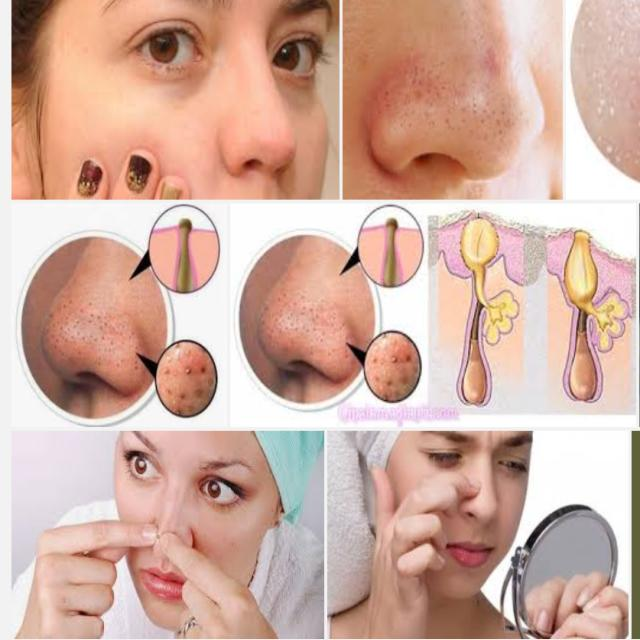Acne: (366, 56, 524, 166), (41, 296, 147, 394), (256, 286, 355, 380), (156, 343, 216, 418), (364, 335, 418, 402)
